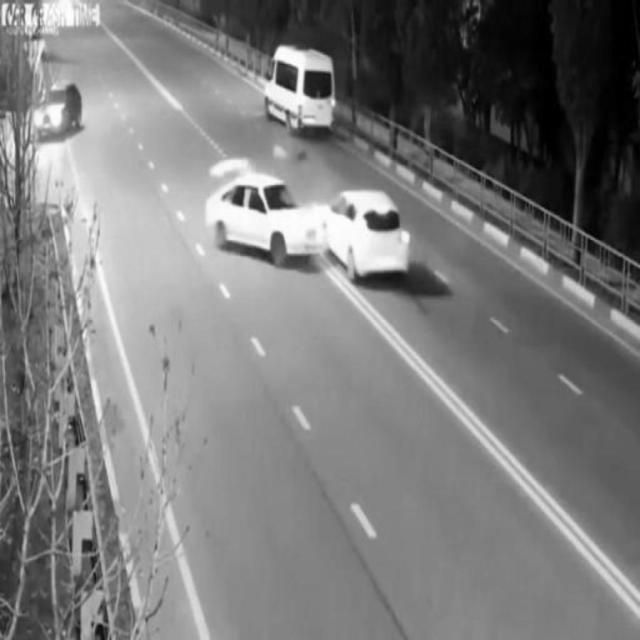accident: (207, 162, 413, 280)
vehicle: (263, 46, 335, 132), (33, 85, 81, 135)
